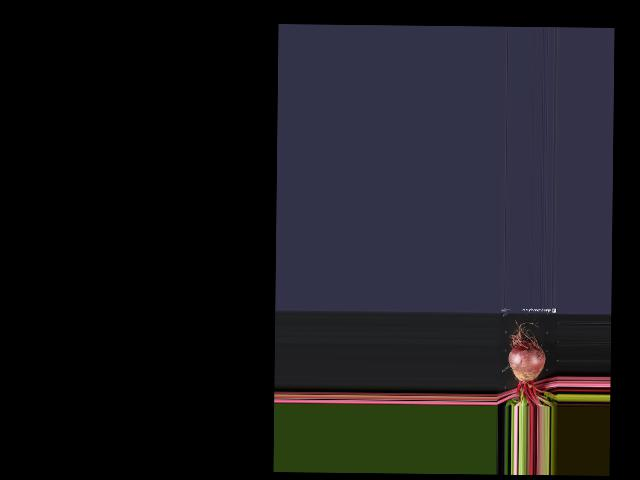beet: (507, 318, 558, 406)
